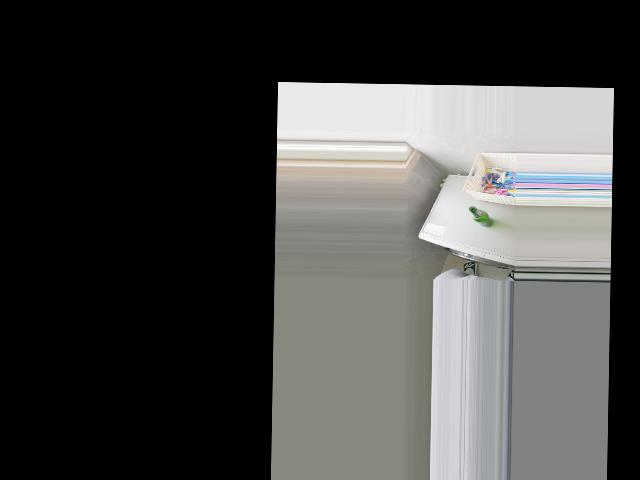beer: (468, 206, 493, 227)
